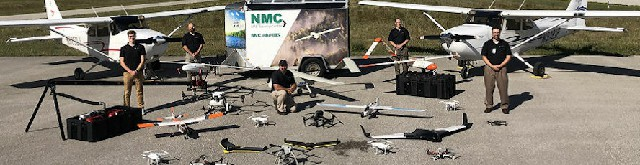maybay_khongnguoilai: (321, 94, 425, 124), (359, 117, 474, 144), (142, 107, 224, 144), (293, 104, 341, 131), (264, 138, 309, 165), (422, 143, 455, 165), (139, 147, 174, 164), (362, 140, 389, 160), (246, 109, 270, 130), (439, 99, 461, 112)
